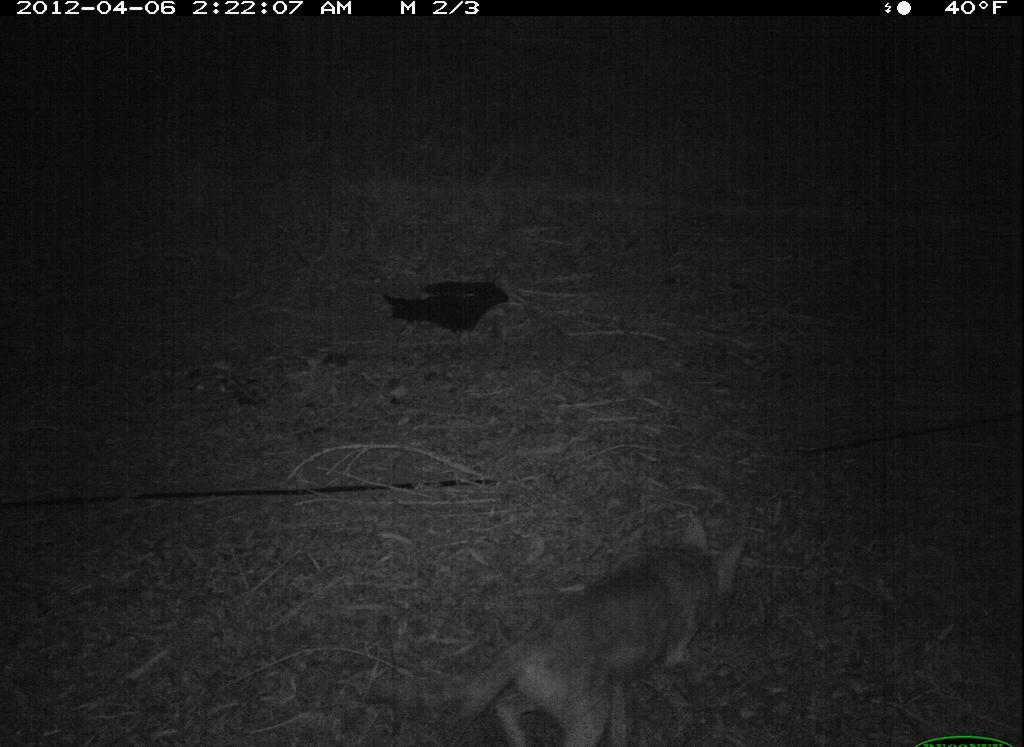coyote: (355, 502, 760, 747)
